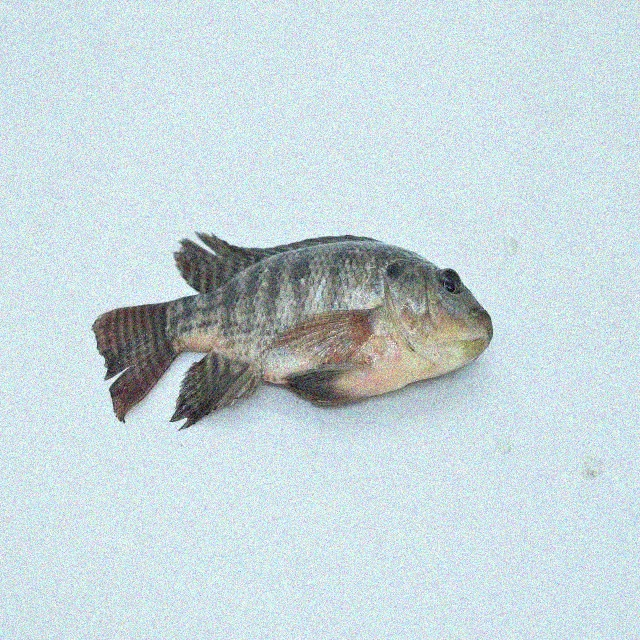Columnaris Disease: (90, 214, 538, 436)
